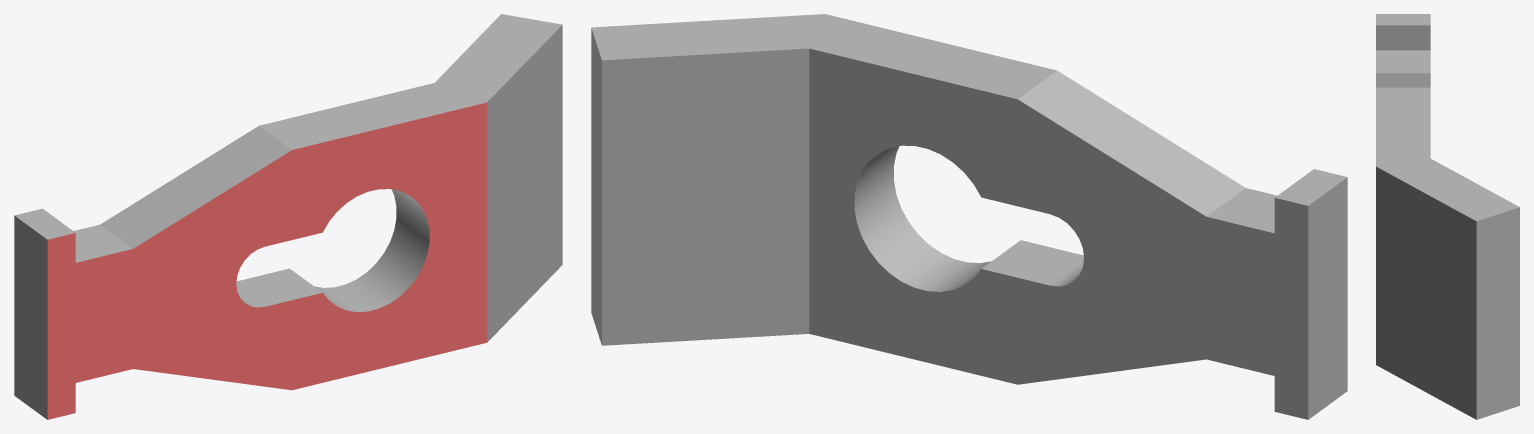
3 renders of one model, left to right at view 1: azimuth 30°, elevation 25°; view 2: azimuth 150°, elevation 25°; view 3: azimuth 270°, elevation 25°, orthographic. The views are drawn at different scales.
Visible parts, largest first — view 1: 33-5.SLDPRT; view 2: 33-5.SLDPRT; view 3: 33-5.SLDPRT.
Boxes of the visible parts, left/top/right/bottom form: 33-5.SLDPRT: left=14, top=14, right=562, bottom=419; 33-5.SLDPRT: left=591, top=14, right=1347, bottom=419; 33-5.SLDPRT: left=1376, top=14, right=1519, bottom=419.
Size of the model in its own units: 0.1003 by 0.04 by 0.0263.
